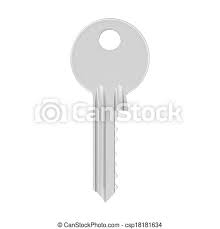key: (62, 14, 159, 204)
